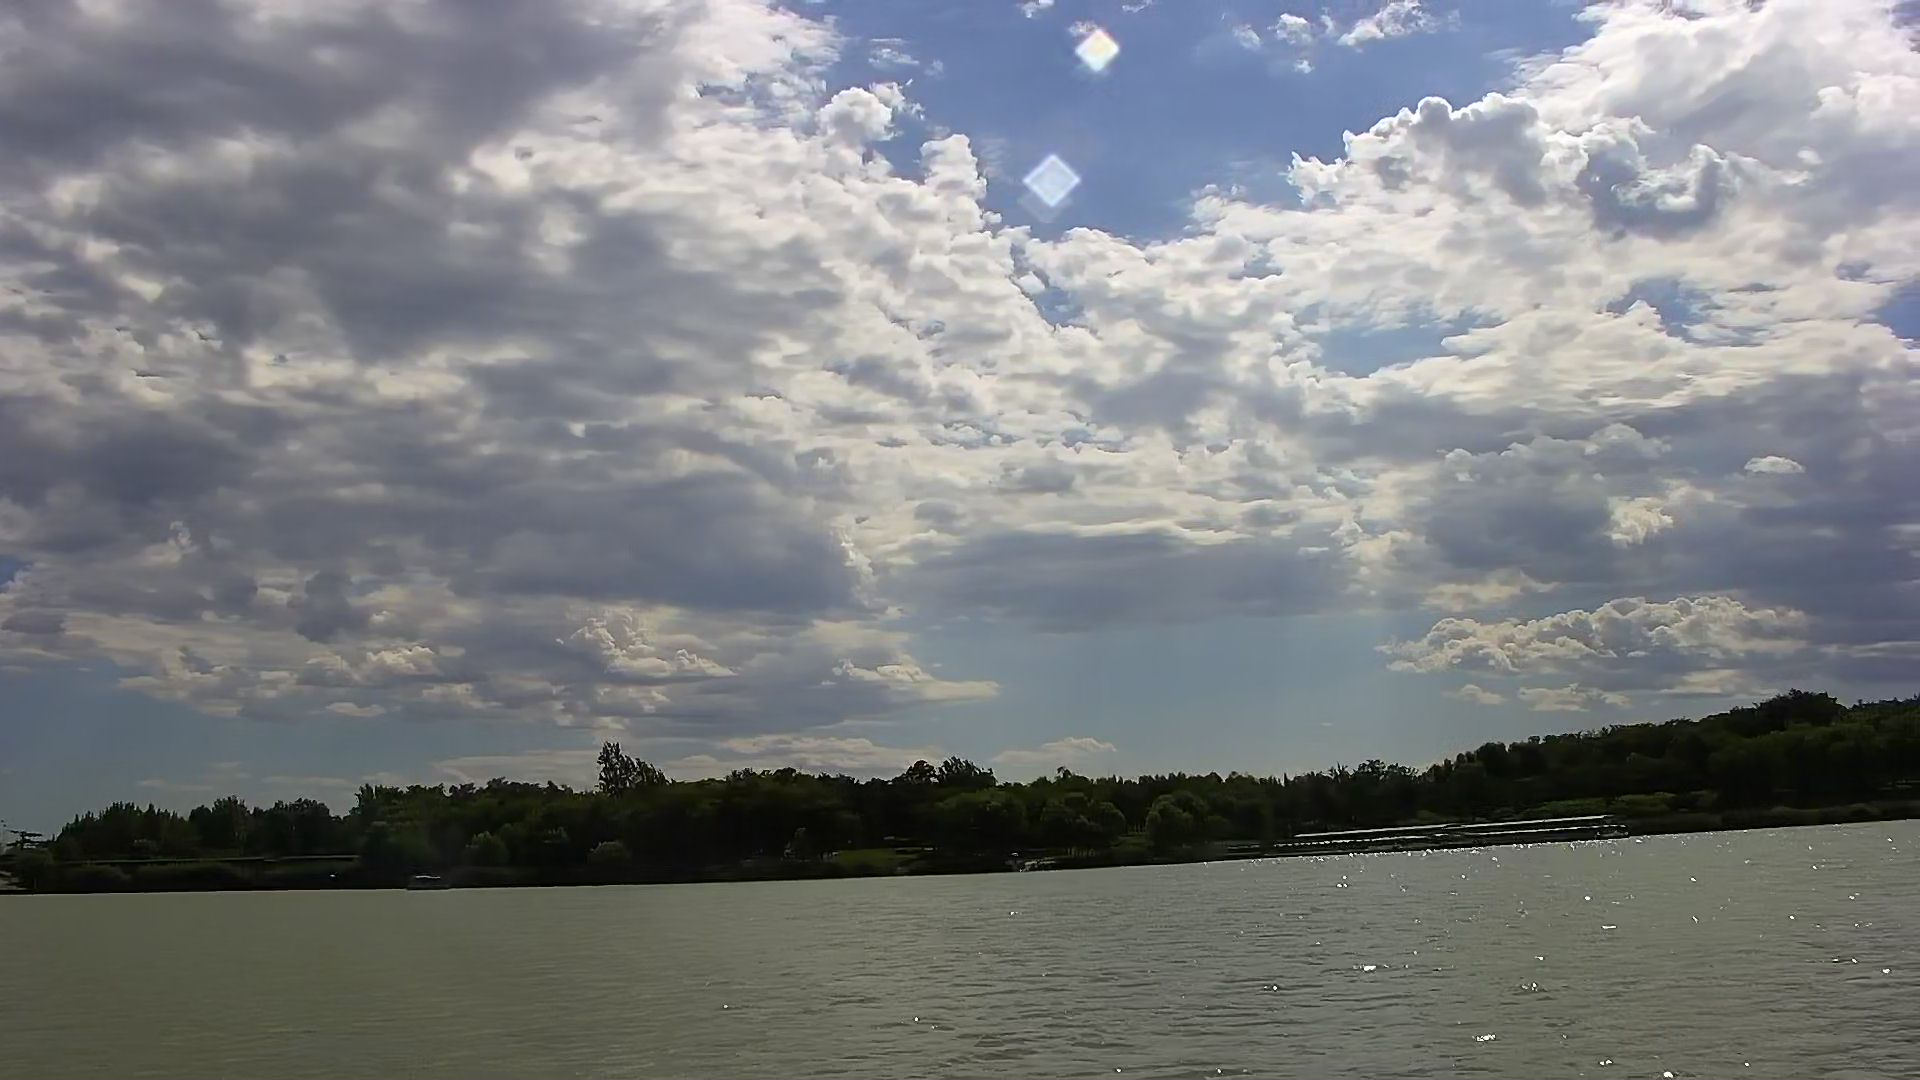harbor: (1275, 808, 1646, 858)
